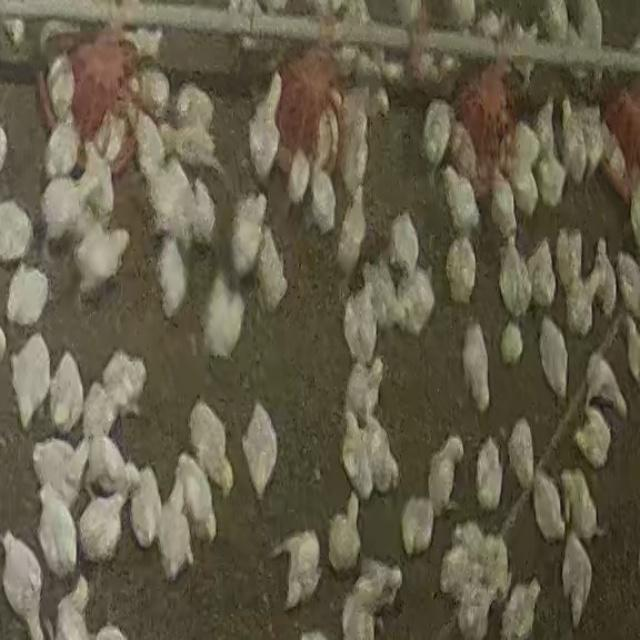chicken: (146, 154, 204, 248), (0, 531, 48, 637), (75, 218, 132, 302), (154, 474, 197, 580), (272, 527, 324, 614), (201, 269, 248, 364), (188, 400, 232, 499), (246, 72, 284, 186), (36, 486, 81, 582), (76, 485, 130, 565), (9, 333, 53, 431), (31, 434, 84, 508), (177, 450, 219, 543), (241, 402, 280, 502), (99, 350, 148, 426), (83, 428, 133, 501), (338, 100, 372, 202), (230, 192, 269, 279), (340, 409, 377, 499), (48, 349, 86, 436), (41, 172, 85, 247), (560, 532, 594, 626), (560, 468, 602, 544), (583, 350, 626, 424), (5, 260, 50, 330), (131, 464, 166, 554), (426, 436, 464, 518), (336, 190, 369, 284), (342, 284, 379, 366), (154, 234, 188, 322), (326, 495, 364, 573), (256, 224, 288, 316), (169, 116, 223, 170), (365, 415, 401, 495), (397, 266, 437, 337), (363, 259, 398, 340), (530, 466, 566, 543), (573, 404, 614, 471), (451, 577, 496, 638), (173, 82, 217, 141), (132, 108, 168, 179), (345, 358, 382, 426), (81, 378, 118, 446), (500, 578, 541, 639), (438, 537, 476, 602), (461, 327, 491, 409), (416, 102, 452, 170), (476, 528, 510, 600), (538, 316, 566, 403), (87, 148, 118, 226), (437, 171, 478, 229), (389, 210, 422, 282), (43, 118, 81, 180), (54, 582, 94, 640), (474, 436, 504, 512), (496, 241, 526, 315), (353, 54, 390, 113), (0, 198, 34, 262), (45, 52, 75, 124), (399, 495, 435, 554), (507, 419, 535, 493), (92, 114, 130, 168), (308, 167, 337, 236), (344, 582, 378, 640), (138, 63, 173, 119), (590, 237, 613, 322), (360, 564, 408, 604), (446, 239, 475, 304), (614, 250, 640, 322), (526, 242, 553, 302), (582, 106, 602, 186), (561, 102, 579, 190), (286, 152, 313, 210), (493, 322, 526, 368), (561, 278, 589, 331), (538, 0, 571, 44), (537, 155, 561, 213), (489, 172, 510, 234), (623, 317, 640, 392), (447, 127, 472, 176), (510, 128, 536, 171), (559, 237, 585, 278), (534, 104, 554, 156), (515, 168, 538, 213), (608, 137, 629, 186), (474, 8, 502, 39)
